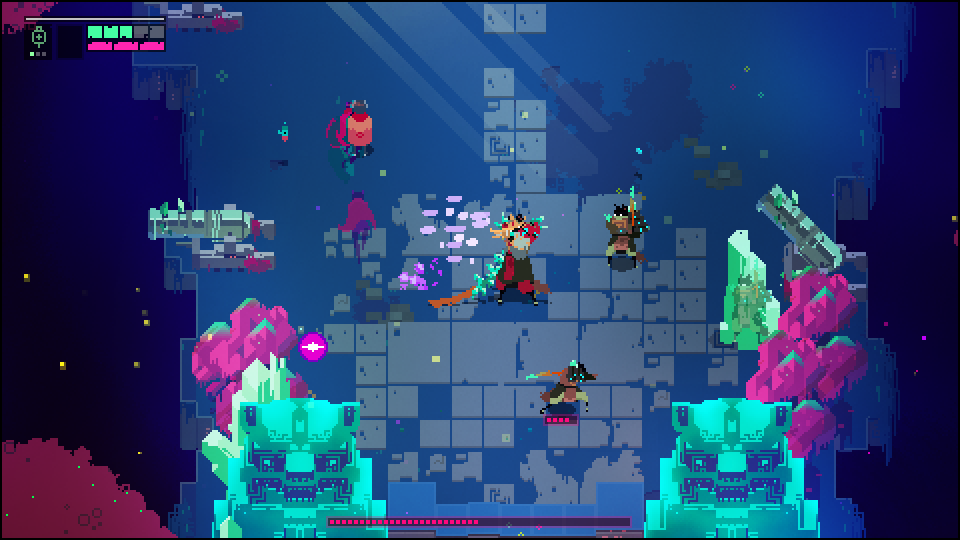hanged_man: (459, 206, 557, 307)
hanged_shot: (297, 328, 328, 365)
player: (342, 95, 376, 168)
